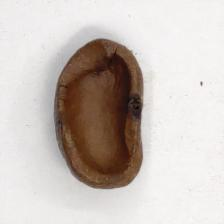NG: (56, 38, 143, 187)
